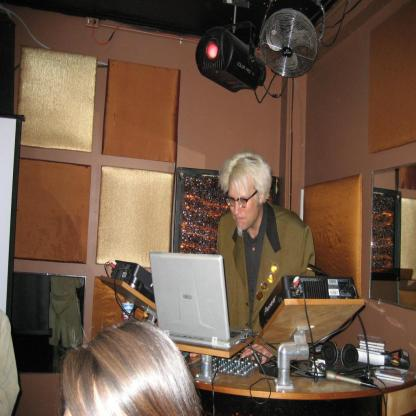board: (149, 251, 252, 350)
